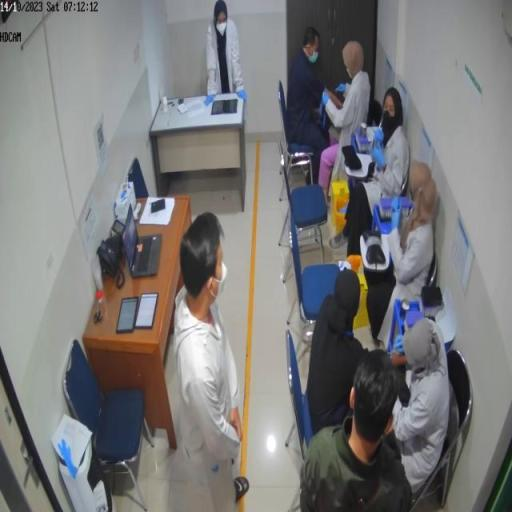person: (175, 212, 248, 510), (300, 348, 413, 512), (331, 87, 411, 256), (367, 164, 438, 348), (305, 270, 369, 437), (394, 318, 451, 496), (319, 42, 373, 201), (288, 28, 340, 179), (207, 1, 248, 102)
